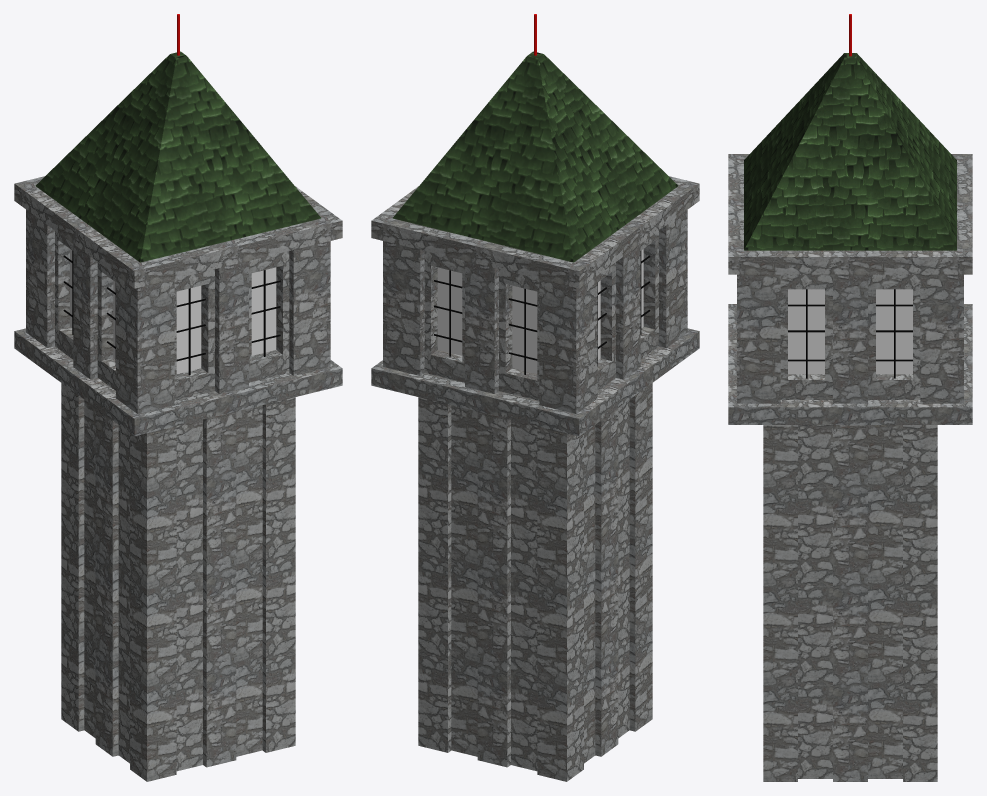
File: Stolp2.fbx
3 views of the same model, side by side, from view 1: azimuth 30°, elevation 25°; view 2: azimuth 150°, elevation 25°; view 3: azimuth 270°, elevation 25° (orthographic).
Parts seen in each view (by area): view 1: Cube, Streha, Stolp; view 2: Cube, Streha, Stolp; view 3: Cube, Streha, Stolp.
Boxes of the visible parts, x1,y1,x2,y2 form: Cube: [14, 14, 342, 781]; Streha: [35, 51, 320, 262]; Stolp: [63, 250, 280, 375]; Cube: [371, 14, 699, 781]; Streha: [393, 51, 678, 262]; Stolp: [434, 251, 650, 374]; Cube: [728, 14, 972, 781]; Streha: [744, 53, 956, 250]; Stolp: [788, 289, 912, 378].
Size of the model in its own units: 1400 by 4618 by 1400.
